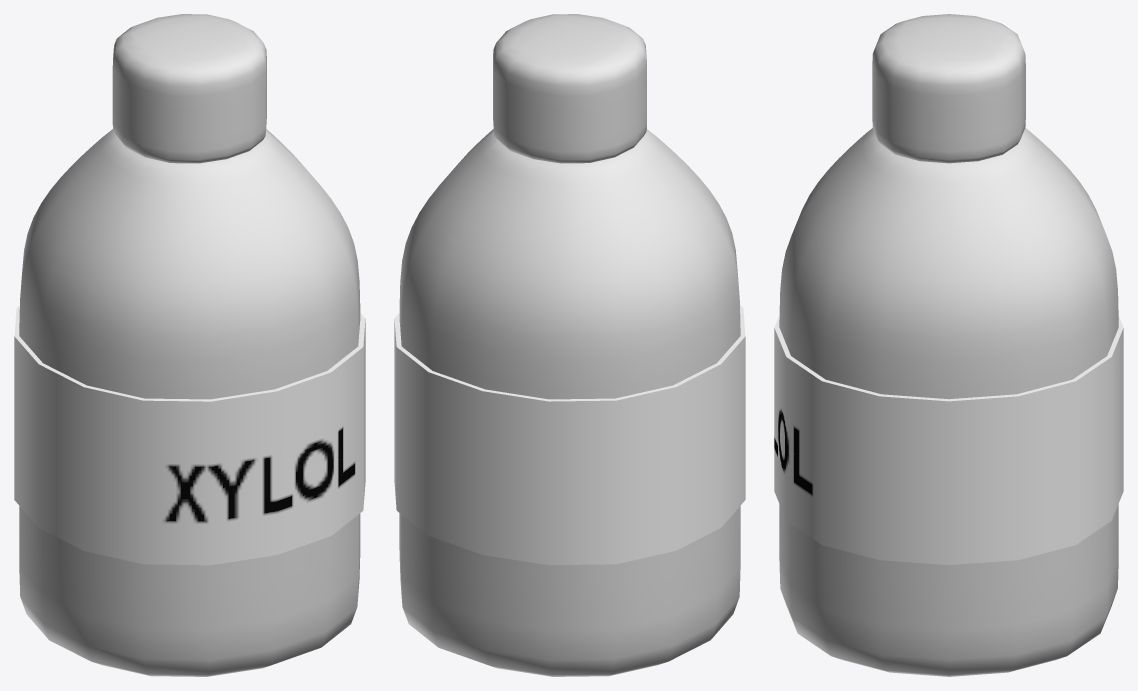
Rendered from Xylol.fbx.
The picture shows the model from 3 angles, left to right: view 1: azimuth 30°, elevation 25°; view 2: azimuth 150°, elevation 25°; view 3: azimuth 270°, elevation 25°; orthographic projection.
Parts seen in each view (by area): view 1: Cube.037, Cube.038, Cube.075; view 2: Cube.037, Cube.038, Cube.075; view 3: Cube.037, Cube.038, Cube.075.
Boxes of the visible parts, box(x1,y1,x2,y2) form: Cube.037: box(19, 129, 360, 676); Cube.038: box(14, 305, 365, 565); Cube.075: box(112, 14, 266, 163); Cube.037: box(399, 129, 740, 676); Cube.038: box(394, 305, 745, 565); Cube.075: box(493, 14, 646, 163); Cube.037: box(779, 128, 1118, 676); Cube.038: box(774, 315, 1123, 565); Cube.075: box(872, 14, 1025, 163).
Size of the model in its own units: 0.0375 by 0.0693 by 0.0375.
3 materials, 1 textured.
